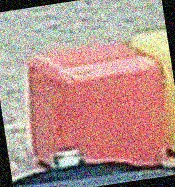orange_cube: (27, 51, 175, 159)
